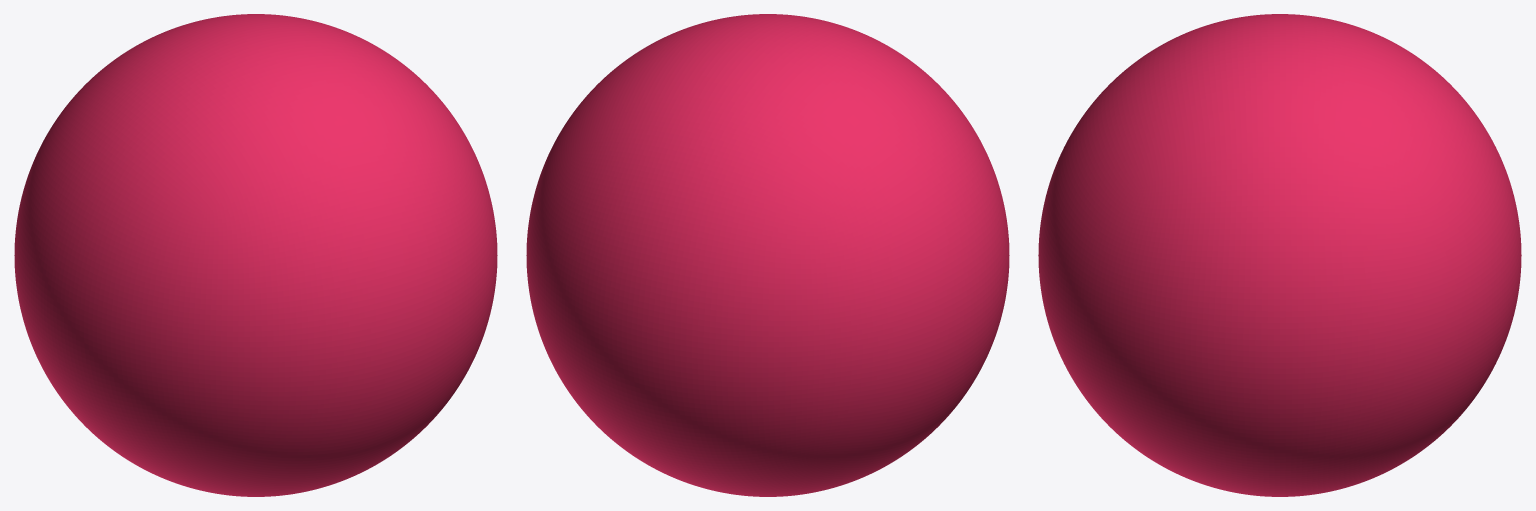
The model's file is marble.glb.
The picture shows the model from 3 angles, left to right: view 1: azimuth 30°, elevation 25°; view 2: azimuth 150°, elevation 25°; view 3: azimuth 270°, elevation 25°; orthographic projection.
Visible parts, largest first — view 1: Cube; view 2: Cube; view 3: Cube.
Boxes of the visible parts, x1,y1,x2,y2 form: Cube: [14, 14, 497, 496]; Cube: [526, 14, 1009, 496]; Cube: [1038, 14, 1521, 496].
Size of the model in its own units: 1.71 by 1.71 by 1.71.
